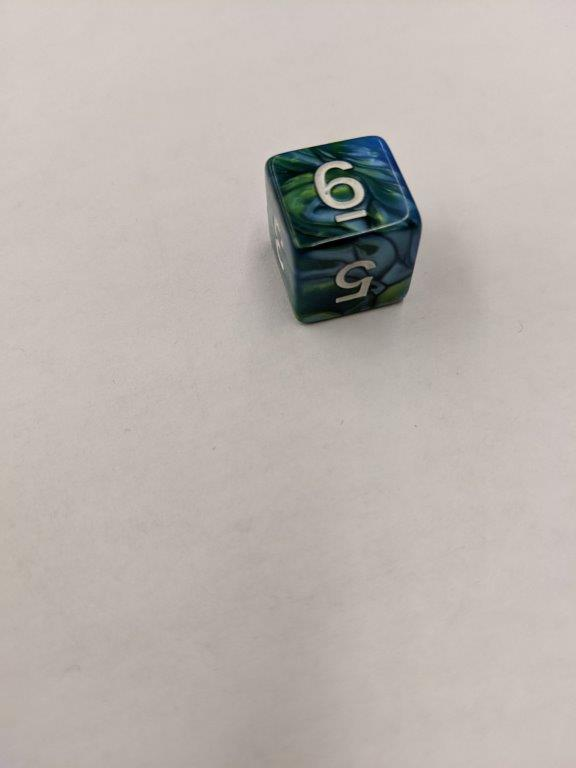d6-6: (263, 132, 421, 324)
